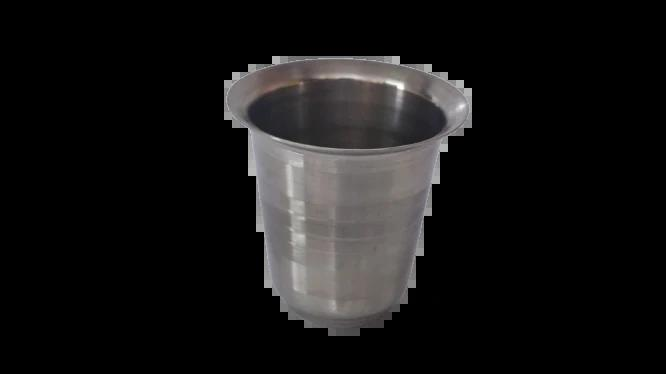glass-tumbler: (226, 56, 468, 329)
